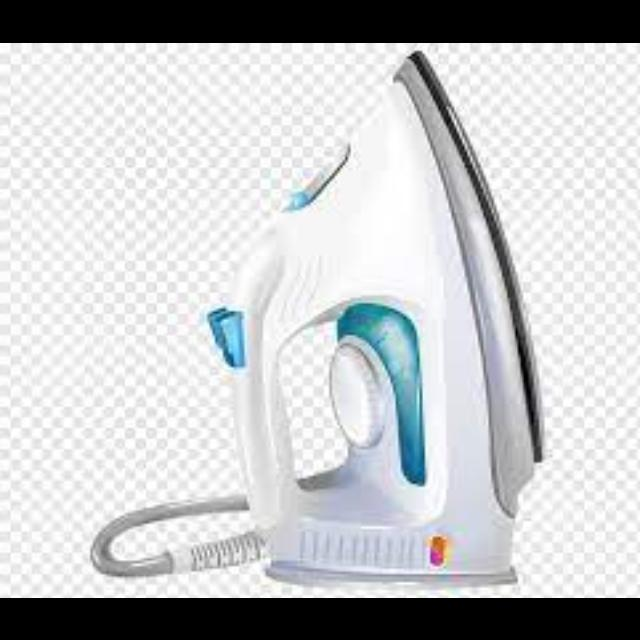Clothes-Iron: (204, 136, 508, 516)
